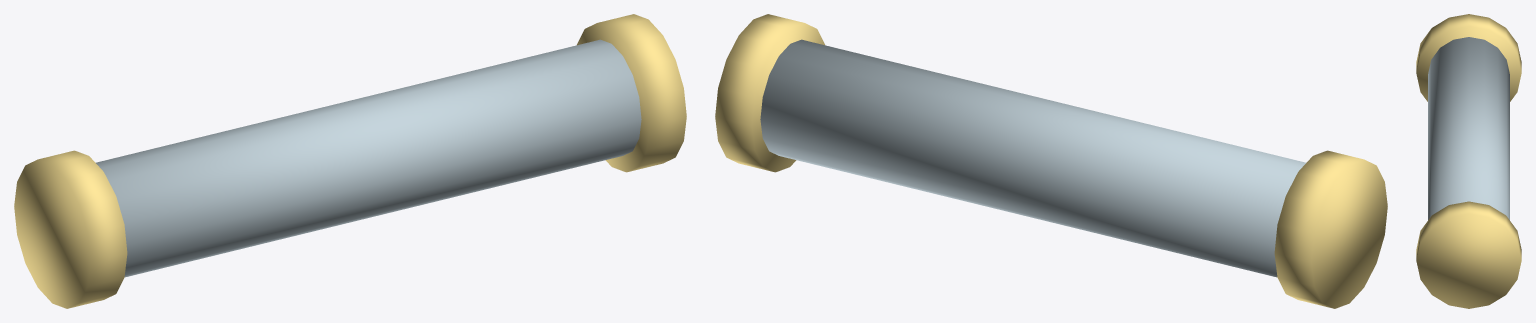
Rendered from fx_pipe.glb.
3 renders of one model, left to right at view 1: azimuth 30°, elevation 25°; view 2: azimuth 150°, elevation 25°; view 3: azimuth 270°, elevation 25°, orthographic. The views are drawn at different scales.
Visible parts, largest first — view 1: fx_pipe; view 2: fx_pipe; view 3: fx_pipe.
Part boxes in pixels (box(x1,y1,x2,y2)): fx_pipe: box(14, 14, 686, 308); fx_pipe: box(715, 14, 1387, 308); fx_pipe: box(1416, 14, 1521, 308).
Size of the model in its own units: 4.05 by 0.9 by 0.9.
